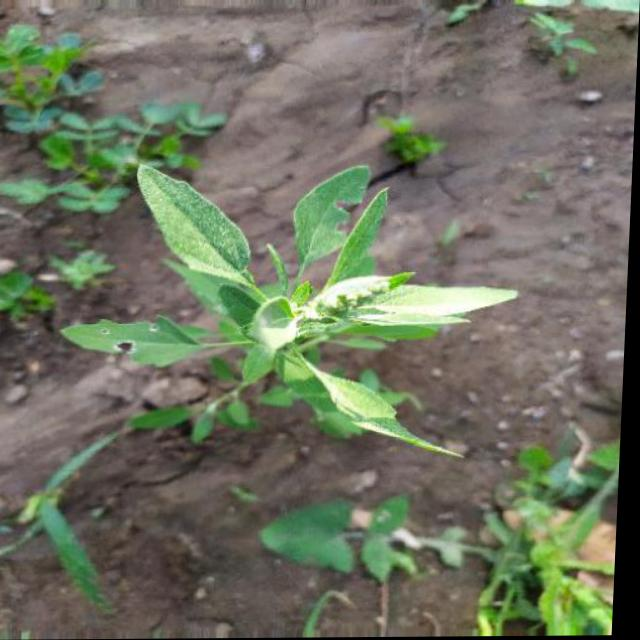weed: (49, 145, 540, 500)
